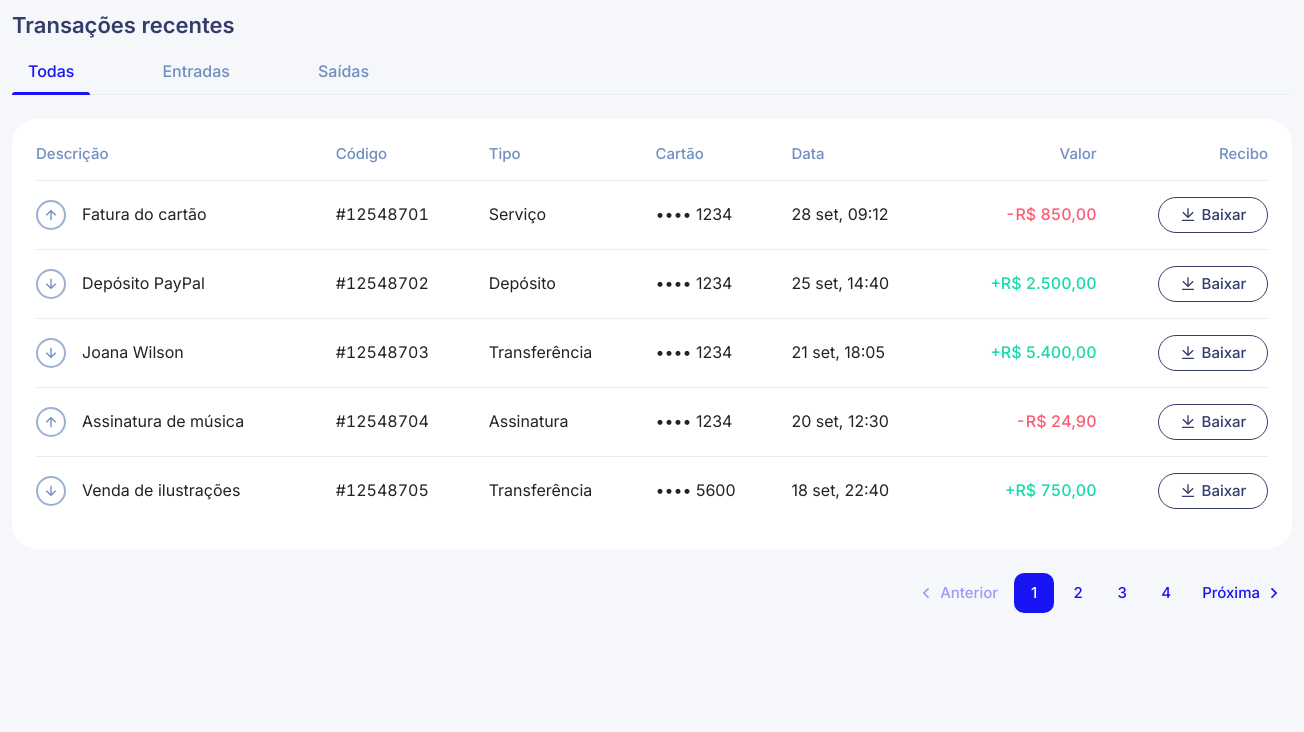
Test: a aba Entradas só tem valores positivos e volta para a página 1
Click the button named "Página 3" at (1122, 593), box [1102, 573, 1142, 613]
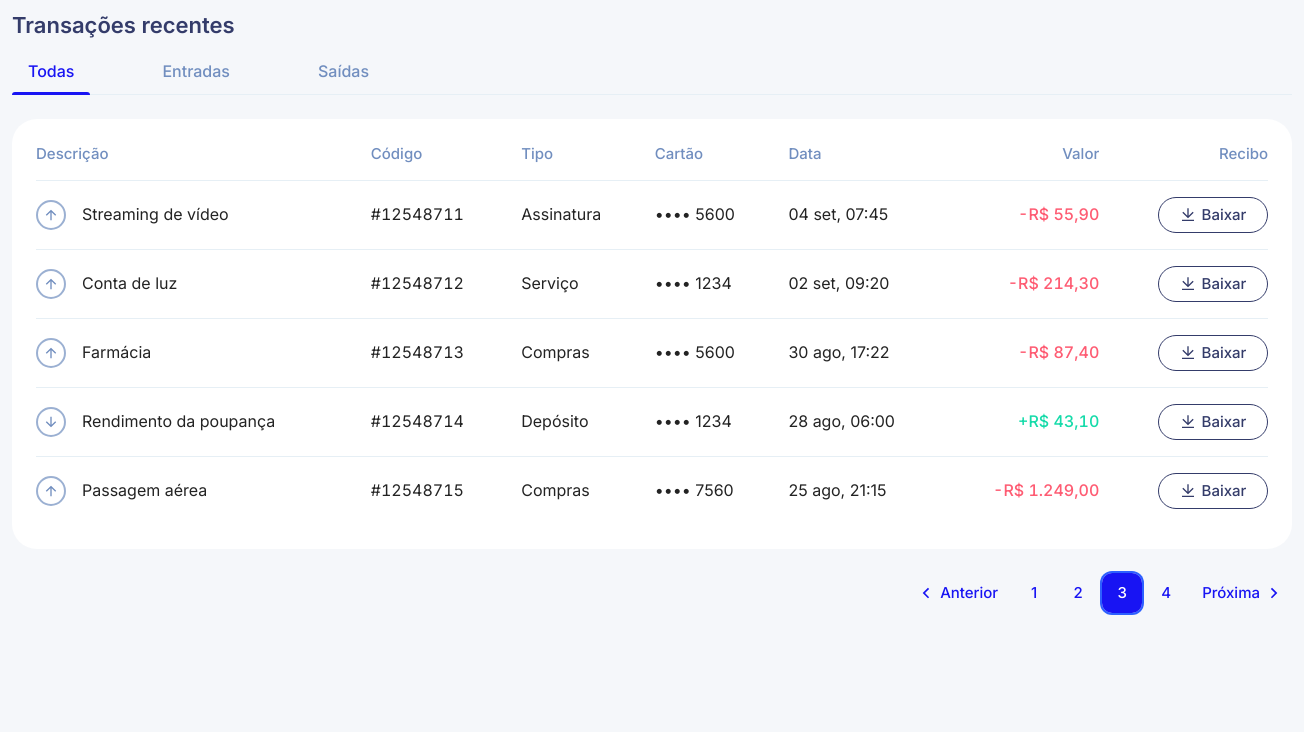
Click the tab "Entradas" at (196, 77), box [146, 60, 246, 95]
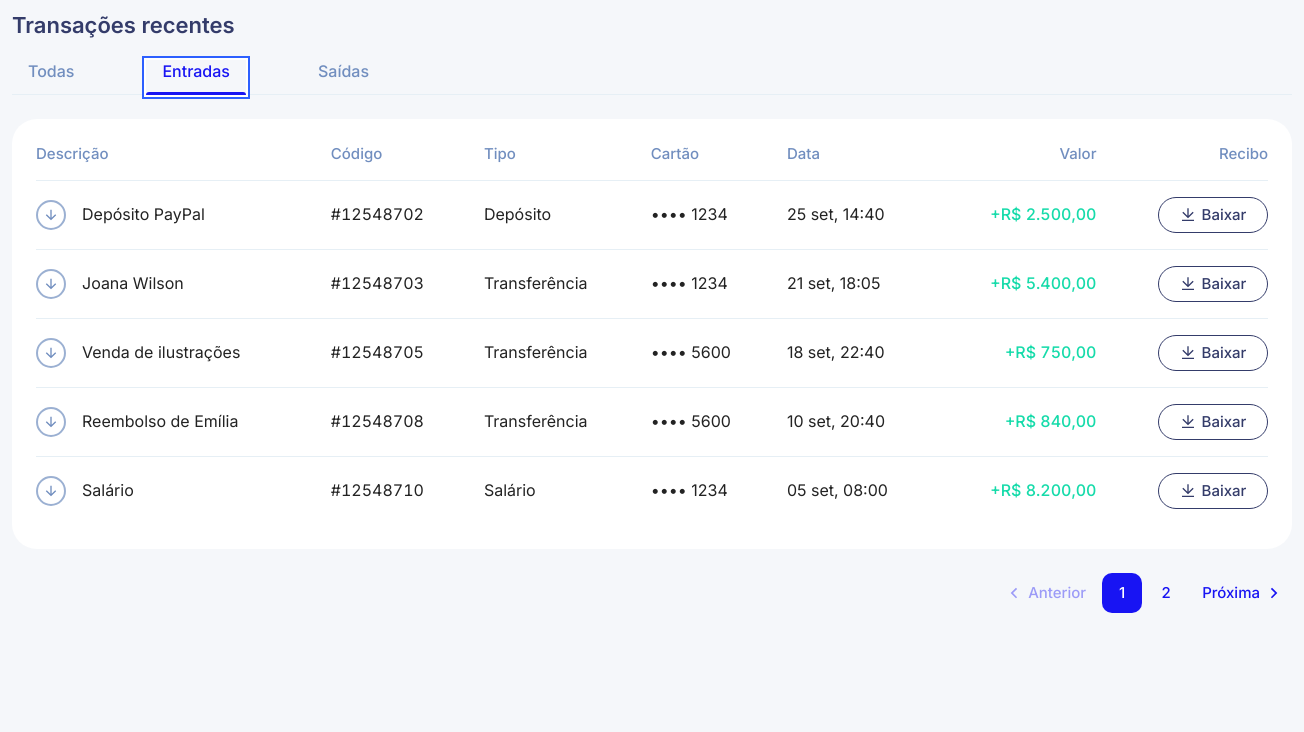
Now the row that starts with "Depósito PayPal" shows "+R$", box [990, 204, 1096, 224]
Now the row that starts with "Joana Wilson" shows "+R$", box [990, 273, 1096, 293]
Now the row that starts with "Venda de ilustrações" shows "+R$", box [1005, 342, 1096, 362]
